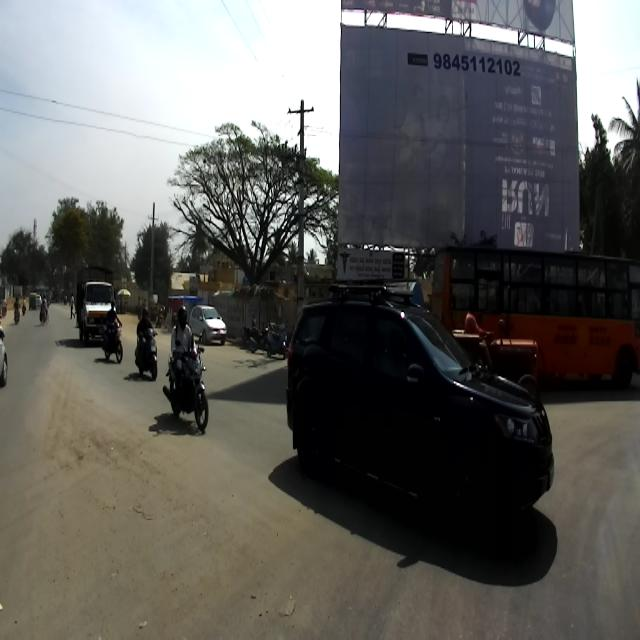car ahead at: (286, 293, 564, 526)
motorcycle ahead at: (166, 346, 216, 435)
